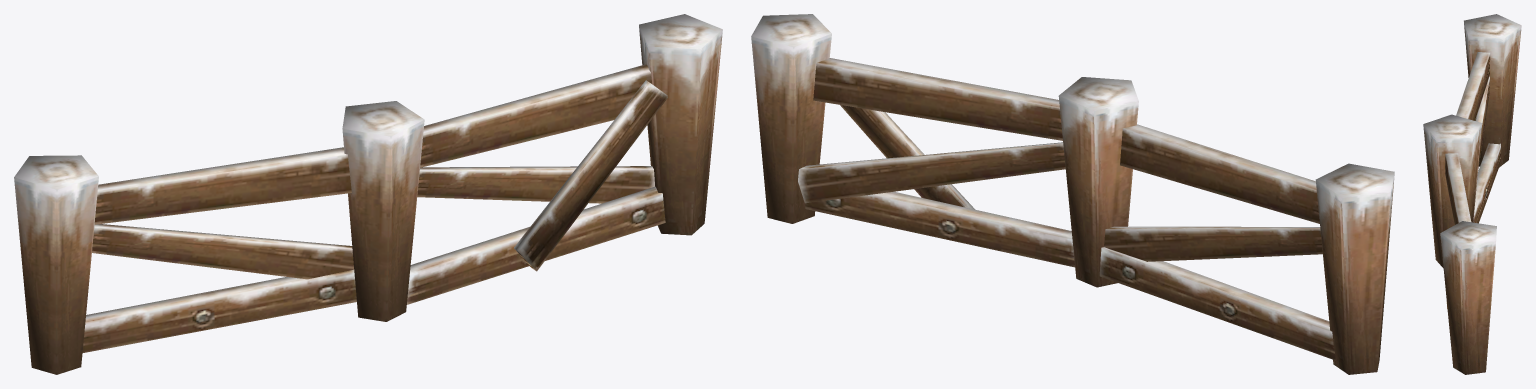
The model's file is SM_Enclosure_16.fbx.
3 renders of one model, left to right at view 1: azimuth 30°, elevation 25°; view 2: azimuth 150°, elevation 25°; view 3: azimuth 270°, elevation 25°, orthographic. The views are drawn at different scales.
Visible parts, largest first — view 1: SM_Enclosure_16; view 2: SM_Enclosure_16; view 3: SM_Enclosure_16.
Part boxes in pixels (bbox=[...]): SM_Enclosure_16: bbox=[14, 14, 722, 374]; SM_Enclosure_16: bbox=[751, 14, 1394, 374]; SM_Enclosure_16: bbox=[1423, 14, 1521, 374].
Bounding box in the file's own units: 4.34 × 1.17 × 0.7779.
